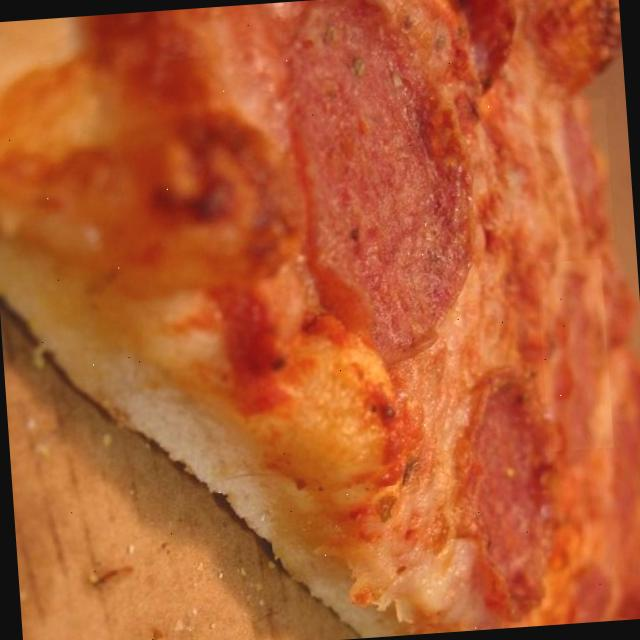pepperoni: (286, 0, 483, 370), (431, 350, 570, 632), (533, 258, 612, 452), (547, 98, 613, 244)
pizza: (0, 0, 640, 638)
